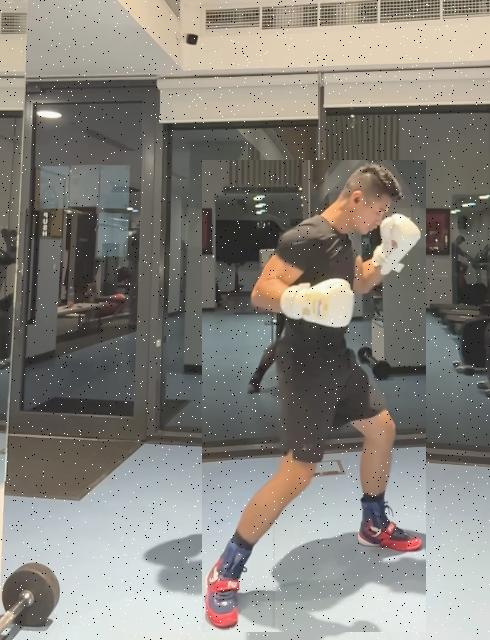punch: (202, 160, 426, 632)
